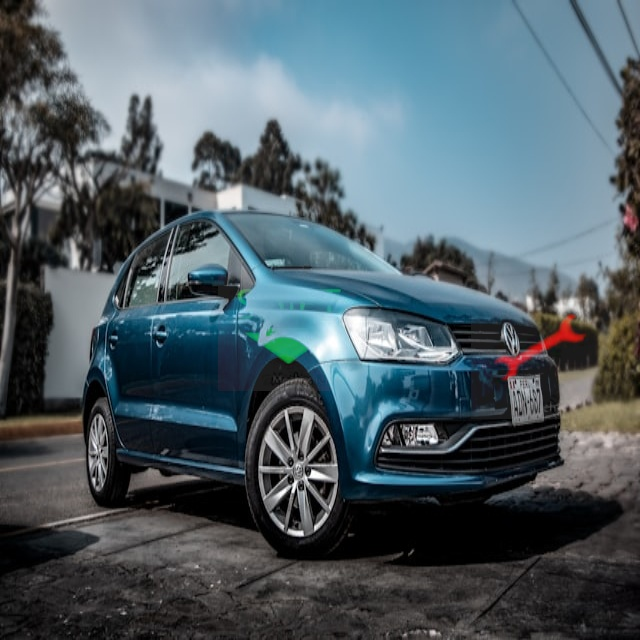symbol: (471, 278, 612, 419), (218, 253, 356, 391)
